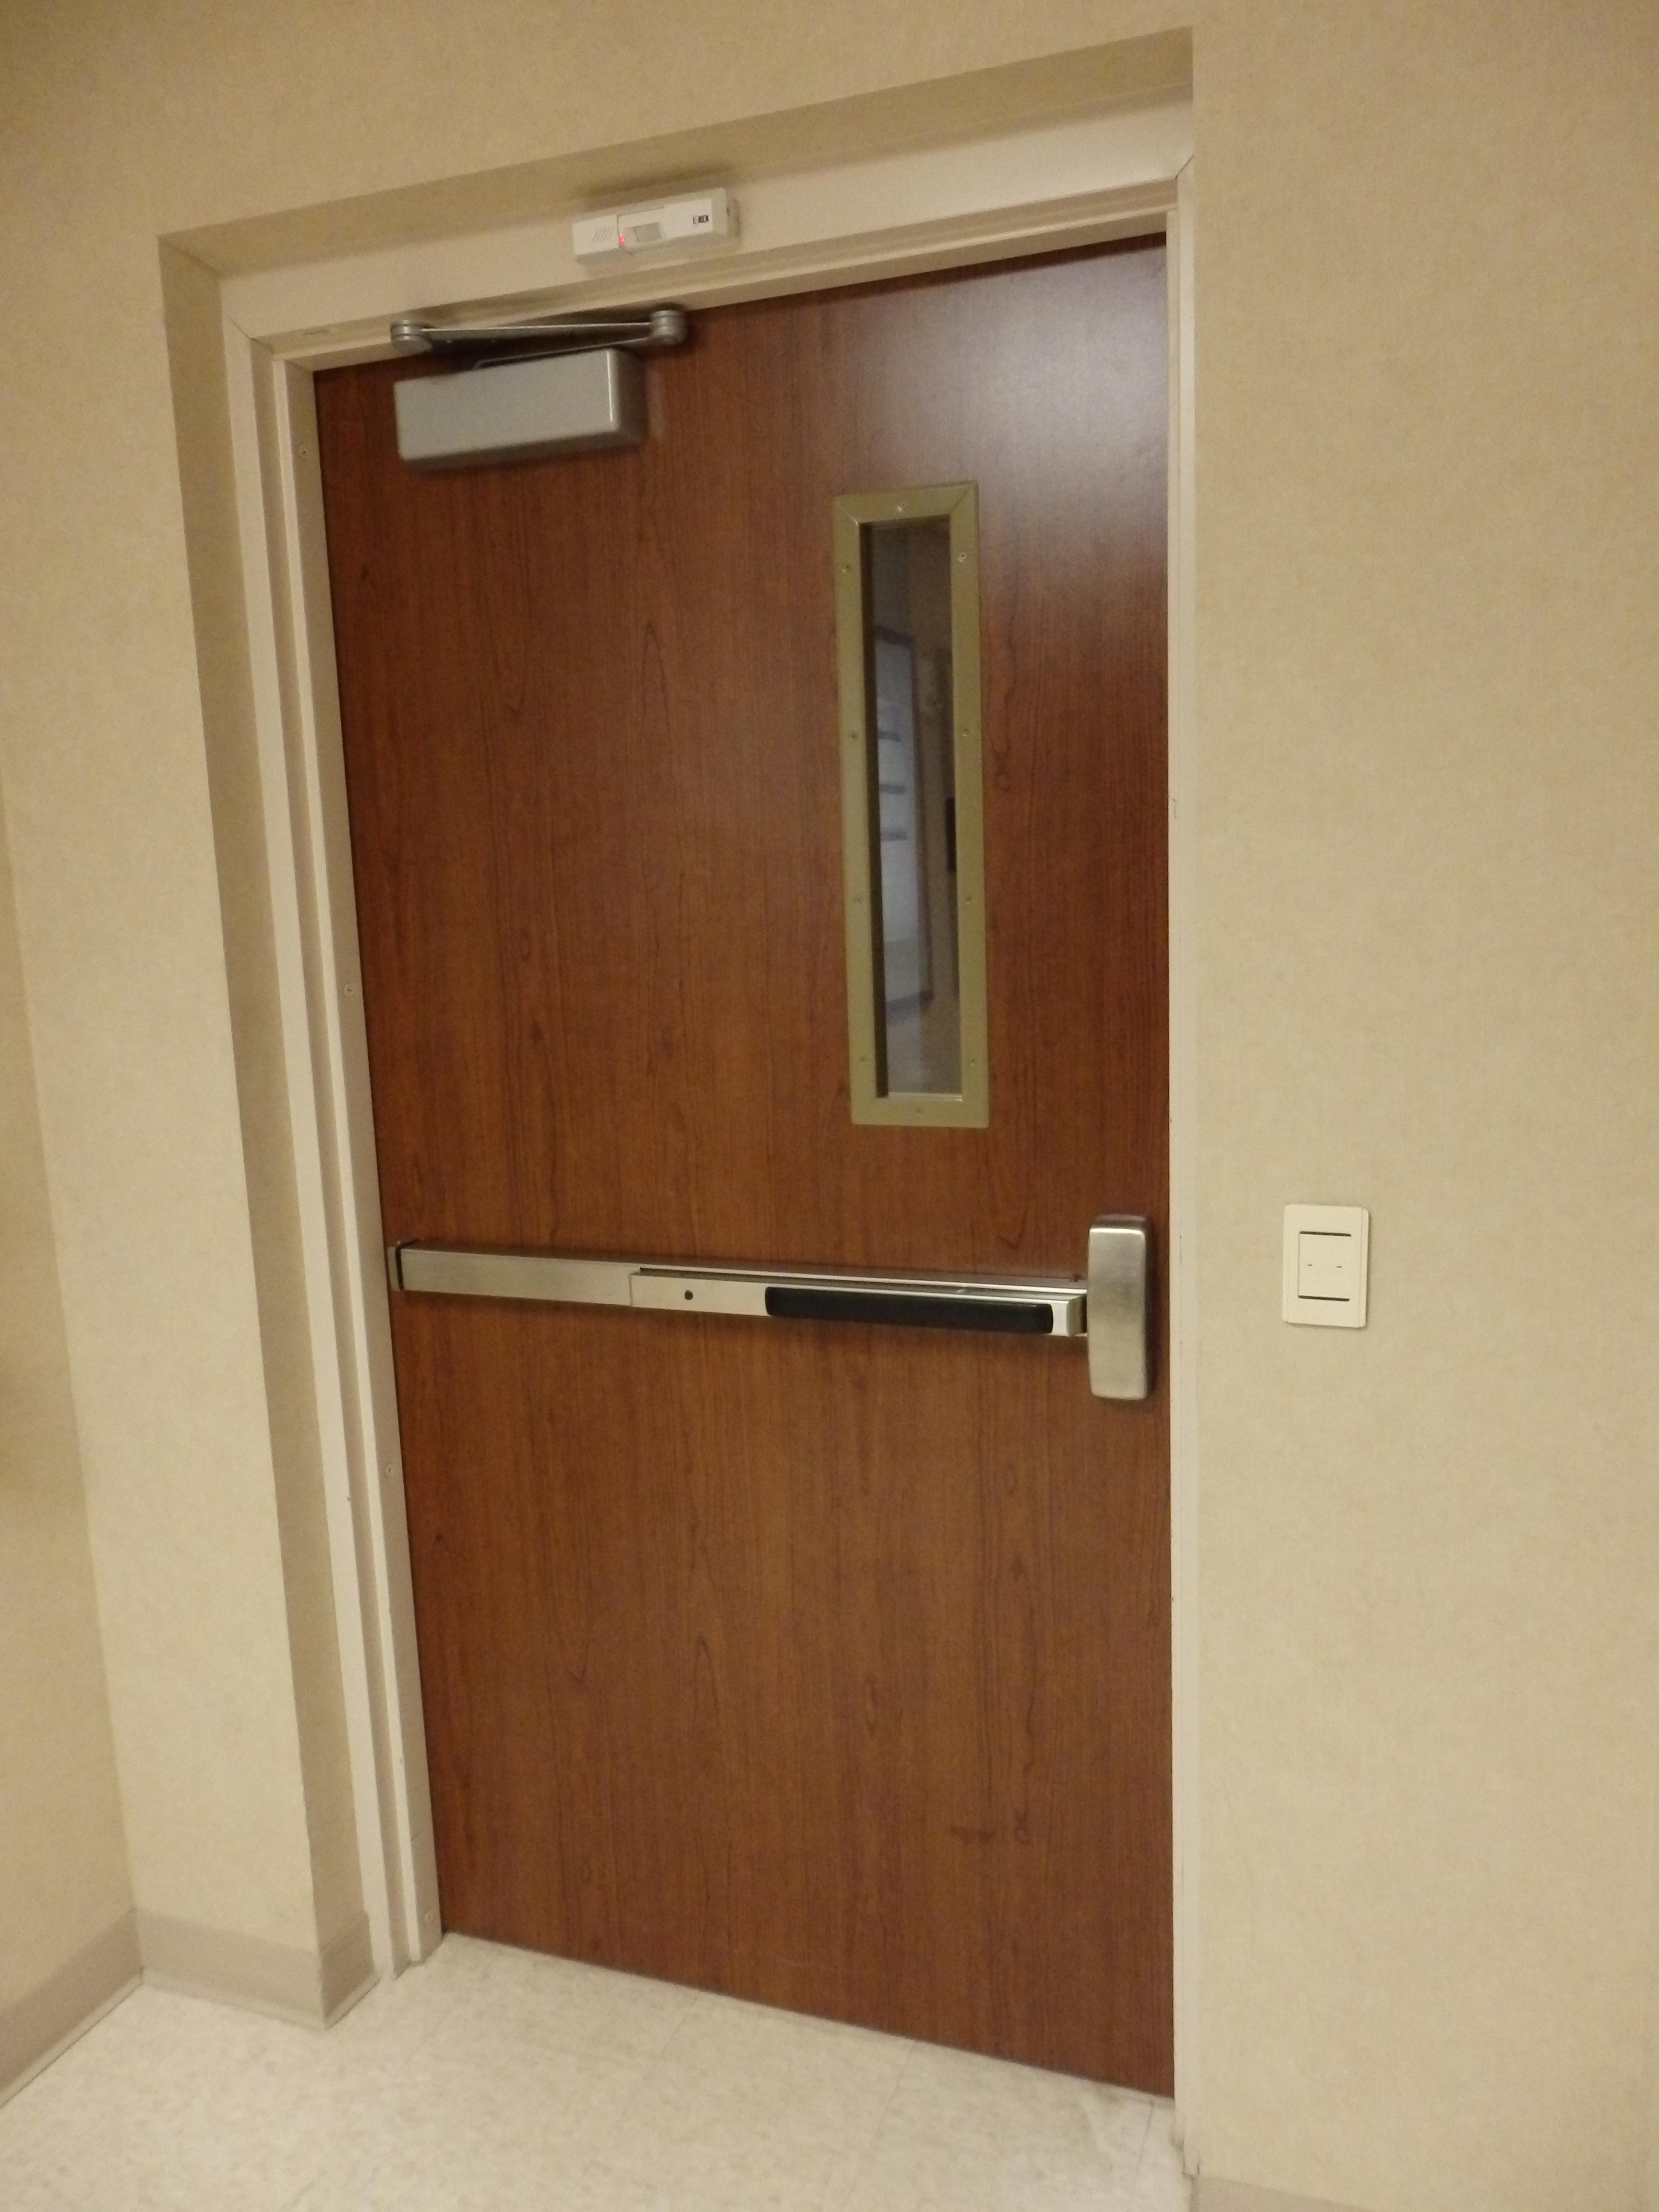door: (225, 98, 1195, 2170)
